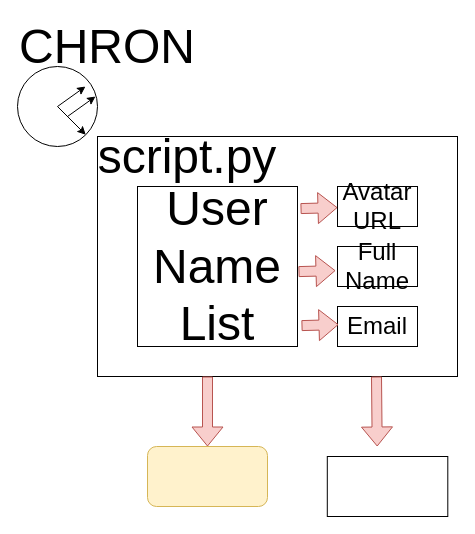
Image size: 475x534. Some labels were removed from this diagram. Here are the shapes that lost their labels. From the top down, the box of each, then its label:
(146, 446, 268, 506): Terminal Output
(326, 456, 448, 516): A,B,C,D\n.CSV
